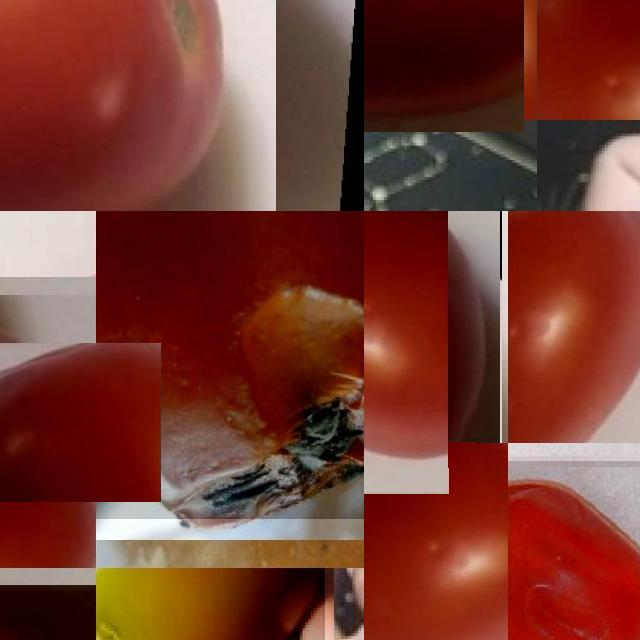0: (508, 211, 640, 443), (364, 443, 508, 640), (364, 211, 474, 468)
1: (508, 461, 640, 640)
Fresh Tomato: (0, 0, 244, 211), (0, 309, 128, 535), (364, 0, 530, 126), (537, 0, 640, 120)
Rotten Tomato: (96, 211, 364, 519), (96, 568, 325, 640)
